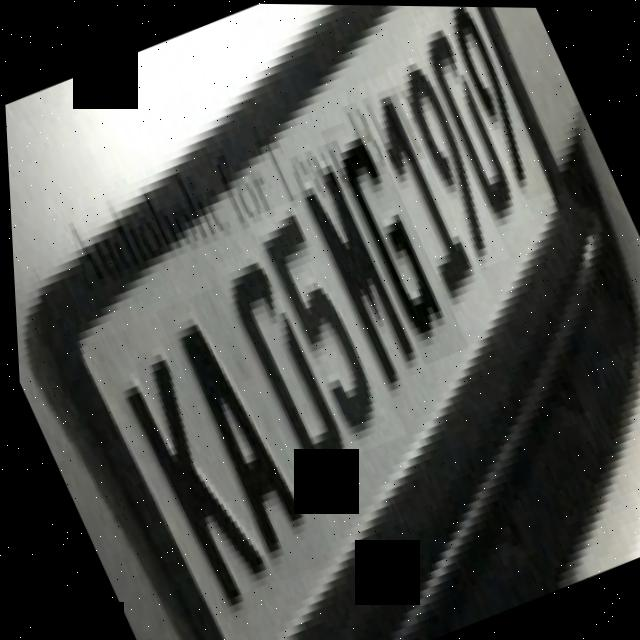0: (209, 243, 371, 516), (409, 17, 533, 231)
1: (349, 69, 499, 331)
5: (243, 197, 403, 455)
9: (384, 52, 508, 269), (437, 5, 552, 199)
A: (152, 286, 332, 581)
G: (317, 112, 466, 364)
K: (85, 315, 277, 622)
M: (284, 152, 435, 403)
